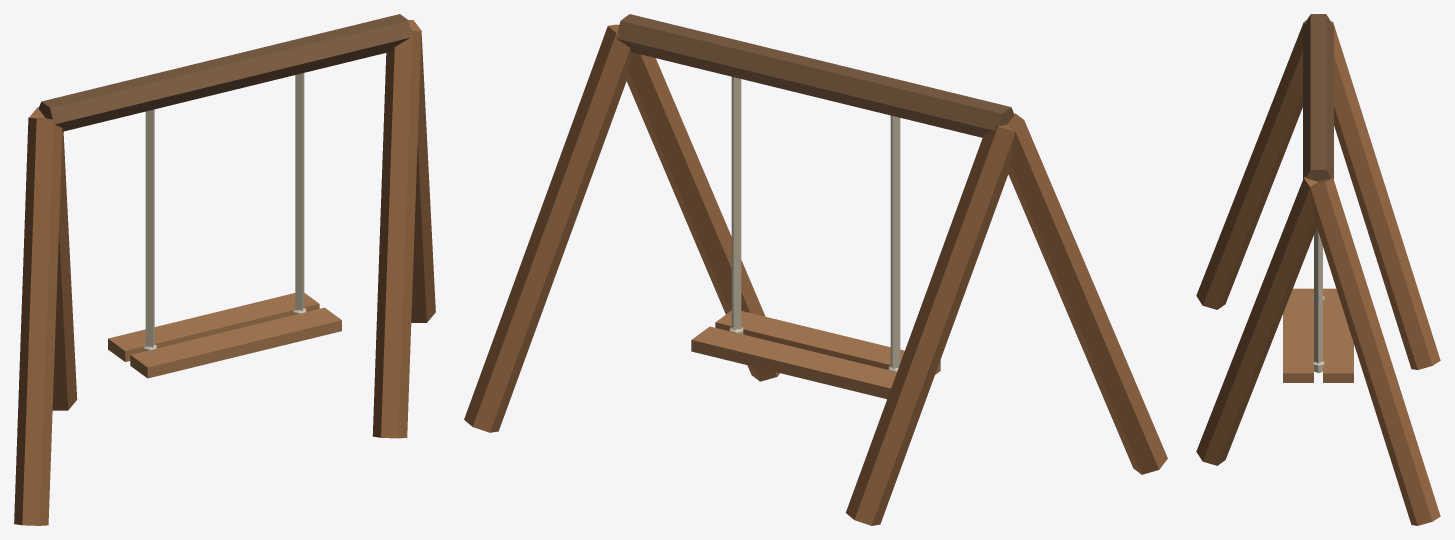
Rendered from xy_isle_swing.glb.
3 renders of one model, left to right at view 1: azimuth 30°, elevation 25°; view 2: azimuth 150°, elevation 25°; view 3: azimuth 270°, elevation 25°, orthographic. The views are drawn at different scales.
Parts seen in each view (by area): view 1: Swing; view 2: Swing; view 3: Swing.
Part boxes in pixels (x1,y1,x2,y2): Swing: [14, 14, 435, 525]; Swing: [464, 14, 1167, 525]; Swing: [1196, 14, 1440, 525].
Size of the model in its own units: 3.57 by 2.32 by 1.59.
